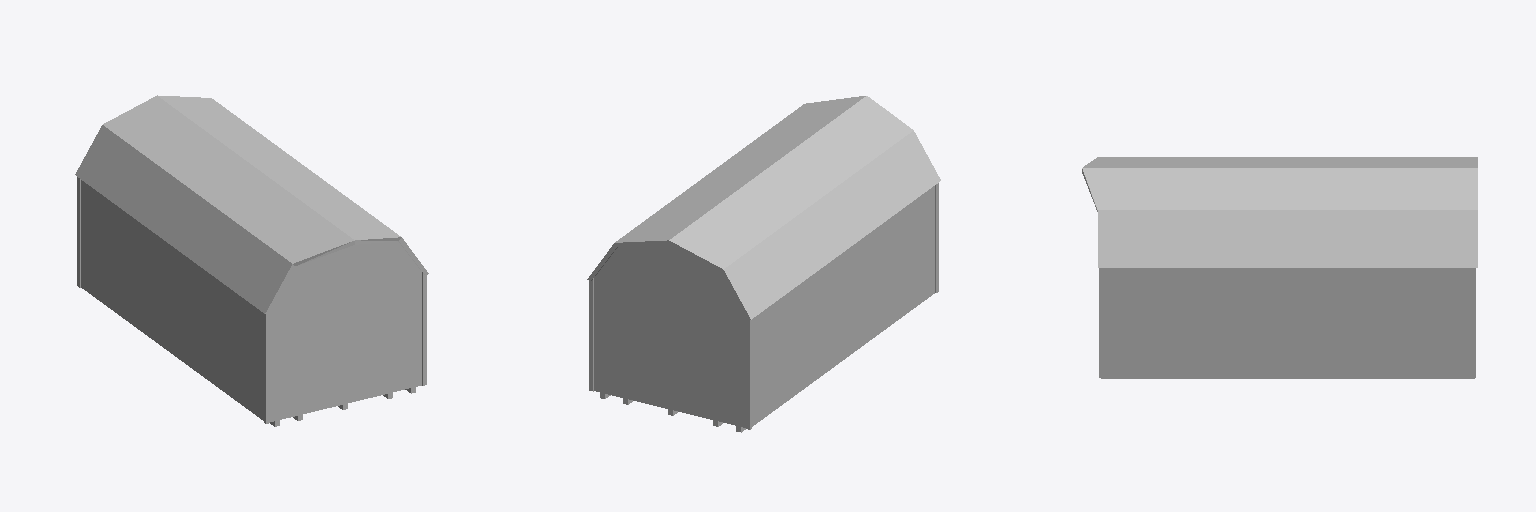
Rendered from High Wall Barns_10x20.obj.
The picture shows the model from 3 angles: view 1: azimuth 30°, elevation 25°; view 2: azimuth 150°, elevation 25°; view 3: azimuth 270°, elevation 25°; orthographic projection.
Parts seen in each view (by area): view 1: High Wall Barns_10x20.obj; view 2: High Wall Barns_10x20.obj; view 3: High Wall Barns_10x20.obj.
Part boxes in pixels (left/top/right/bottom): High Wall Barns_10x20.obj: left=75, top=95, right=428, bottom=426; High Wall Barns_10x20.obj: left=587, top=96, right=940, bottom=432; High Wall Barns_10x20.obj: left=1082, top=157, right=1477, bottom=378.
Size of the model in its own units: 3.09 by 3.17 by 6.45.